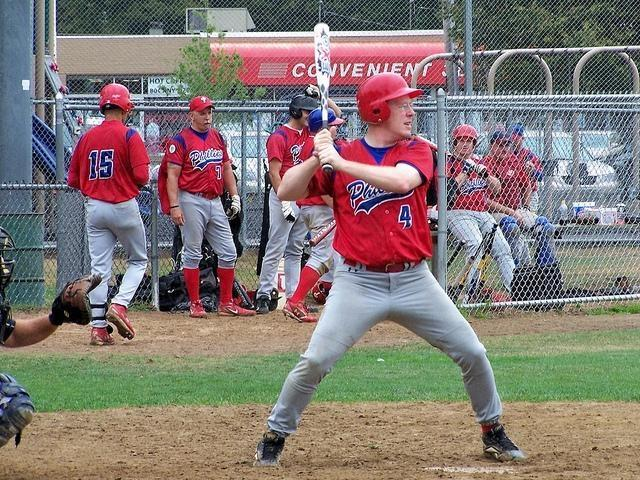car: (524, 129, 622, 210), (218, 131, 271, 194), (578, 128, 633, 174)
